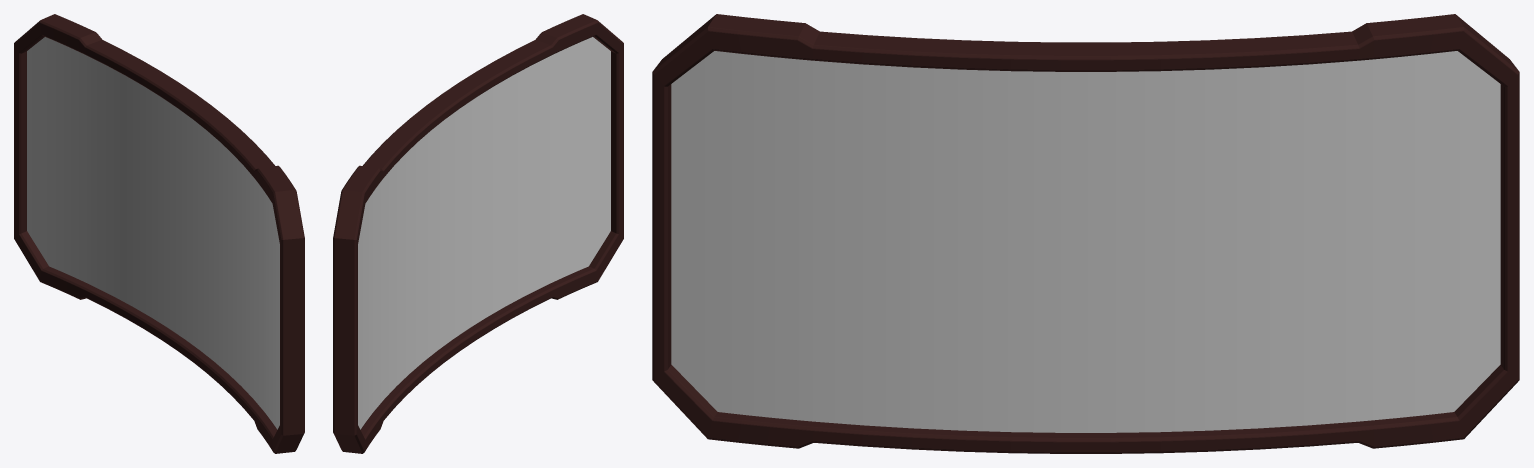
Rendered from shield.fbx.
3 views of the same model, side by side, from view 1: azimuth 30°, elevation 25°; view 2: azimuth 150°, elevation 25°; view 3: azimuth 270°, elevation 25° (orthographic). The views are drawn at different scales.
Visible parts, largest first — view 1: shield_plane, shield_lod0; view 2: shield_plane, shield_lod0; view 3: shield_plane, shield_lod0.
Boxes of the visible parts, x1=… form: shield_plane: x1=27, y1=37, x2=279, y2=429; shield_lod0: x1=14, y1=14, x2=304, y2=453; shield_plane: x1=358, y1=37, x2=610, y2=429; shield_lod0: x1=333, y1=14, x2=623, y2=453; shield_plane: x1=671, y1=51, x2=1500, y2=432; shield_lod0: x1=652, y1=14, x2=1519, y2=453.
Size of what is drawn, in the model's own units: 52.18 by 228 by 435.
